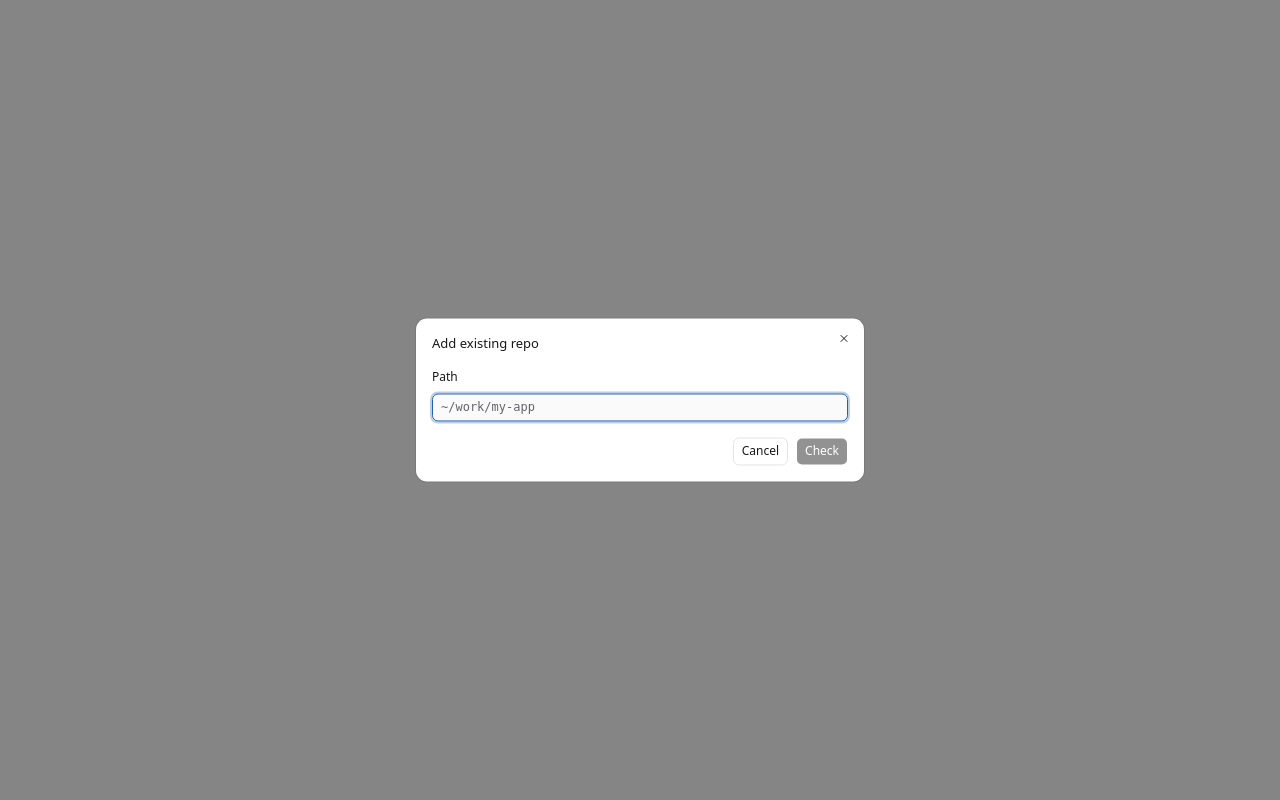
it: AddExistingDialog › Check inspects the trimmed path and shows the resolved repo without adding anything
In the field labelled "Path": (640, 408) [432,394,848,422], type "  ~/work/app "
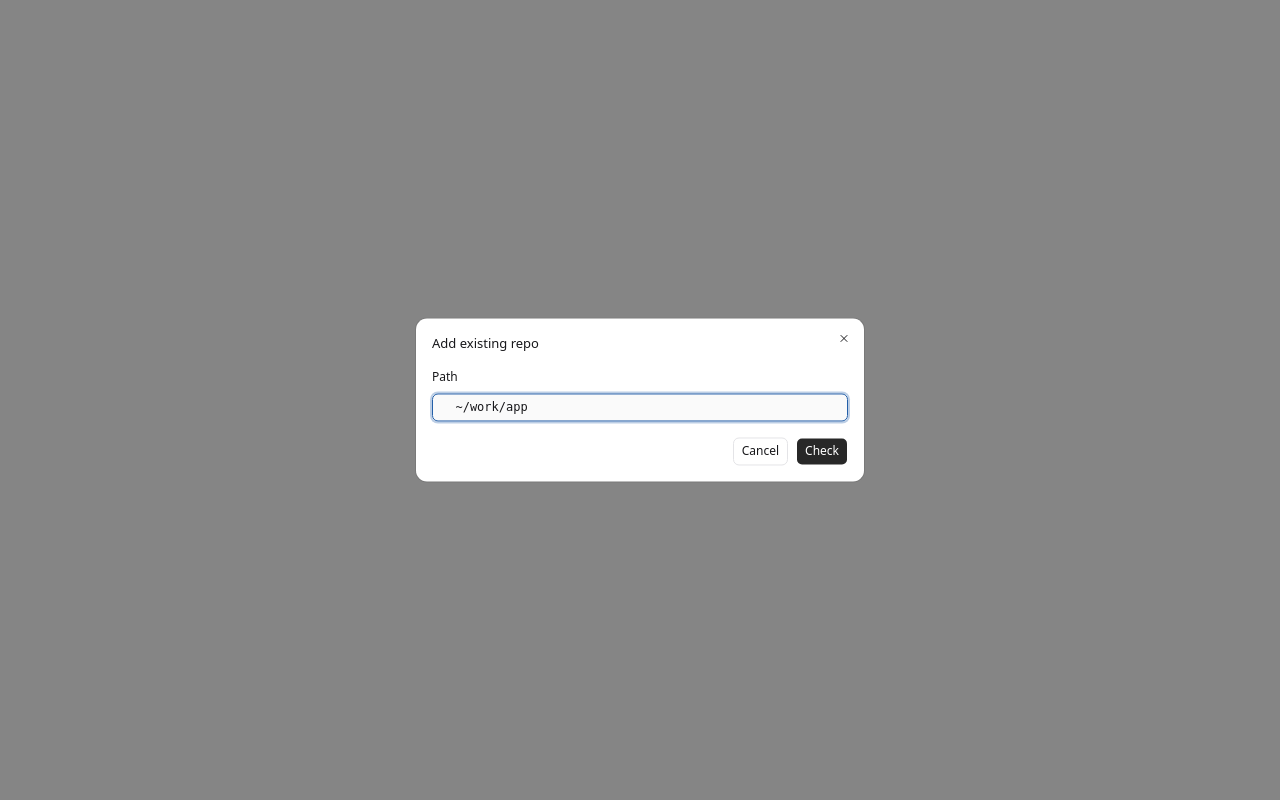
Click the button "Check": (822, 452) [796,438,848,466]
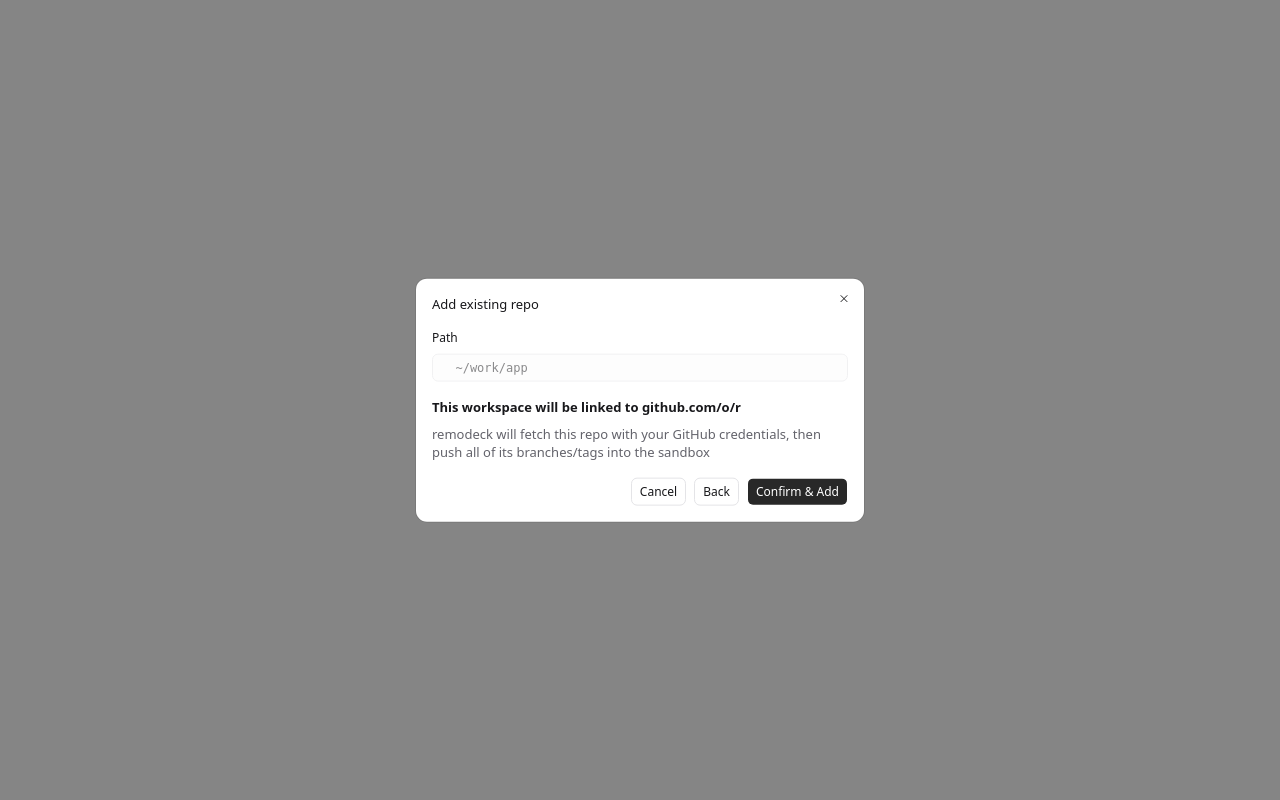
Expected: the button "Confirm & Add" is shown, [747,477,848,505]
Expected: the text "This workspace will be linked to github.com/o/r" is shown, [432,398,741,416]
Expected: the text "remodeck will fetch this repo with your GitHub credentials" is shown, [432,424,821,461]
